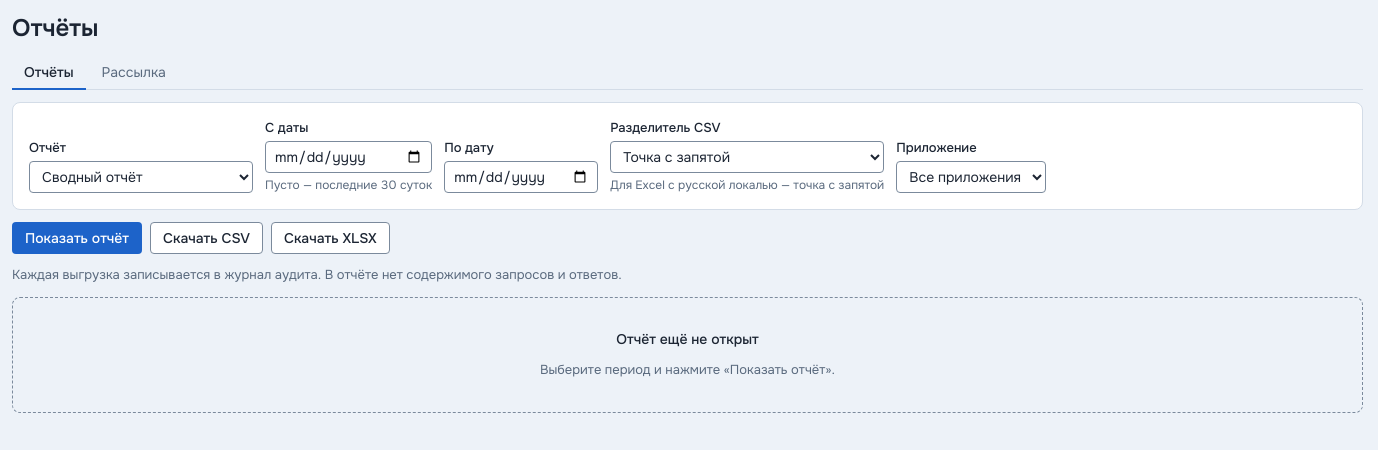
экран «Отчёты» › отчёт «Соответствие» виден только с compliance.read и выгружается без периода
Expected: the option "Соответствие требованиям" is not shown
Type "2026-10-01" into the date field labelled "С даты" at x=349, y=157, box [265,141,432,173]
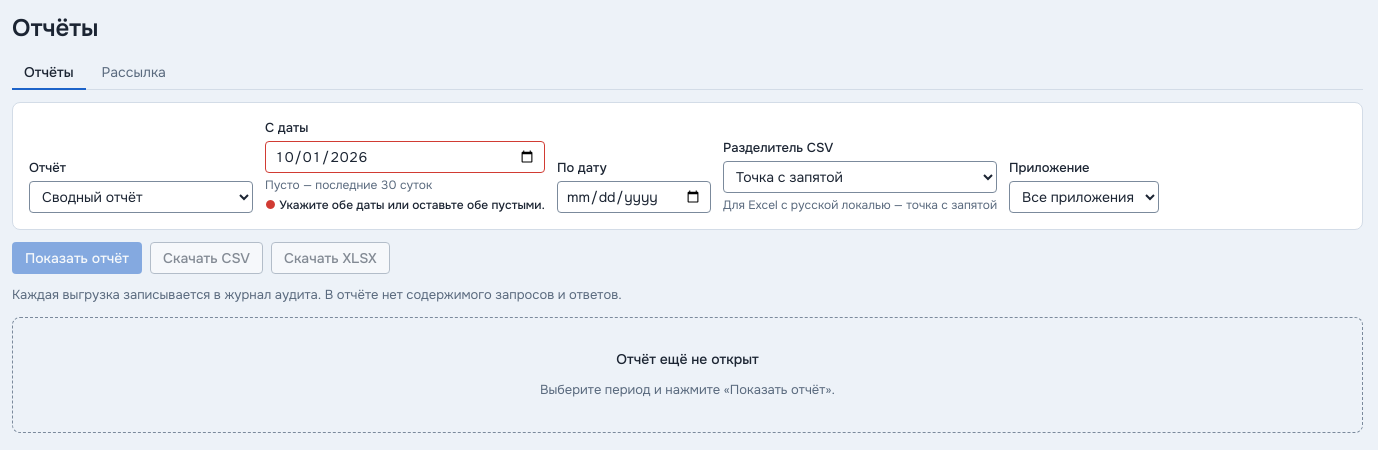
Select "Соответствие требованиям" in the dropdown labelled "Отчёт" at x=141, y=197, box [29,181,253,213]
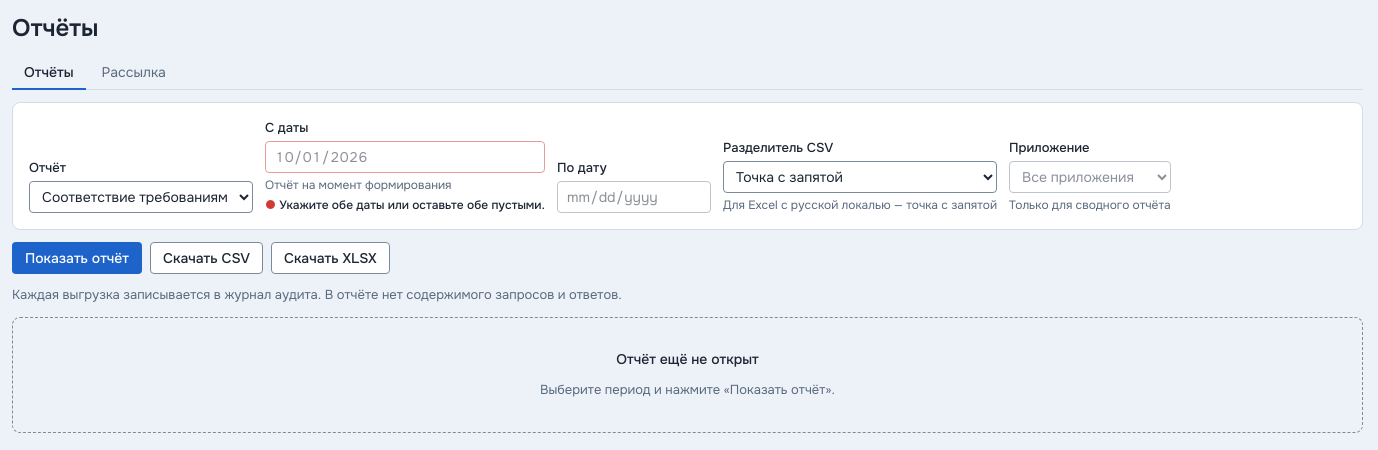
Expected: the date field labelled "С даты" is disabled, [265,141,545,173]
